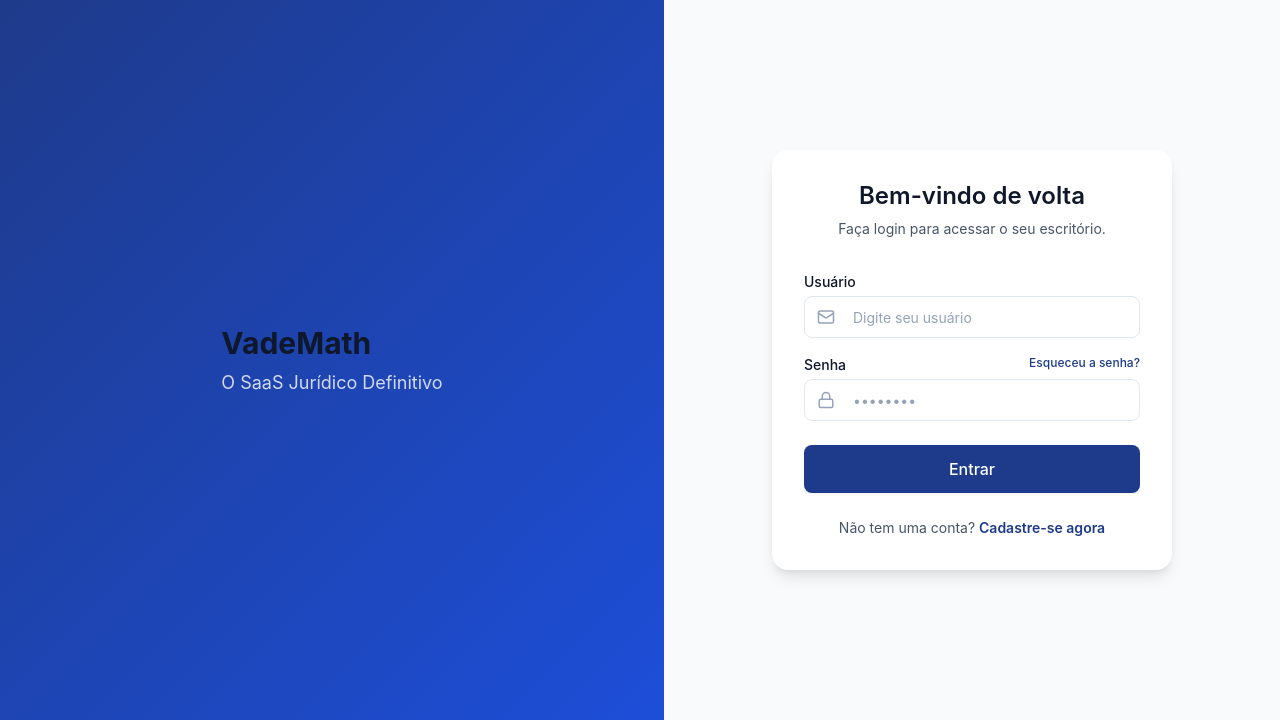
Test case: Login Component › shows validation errors if fields are empty
Click the button "Entrar": coordinates (972, 469) 804,445 -> 1140,493
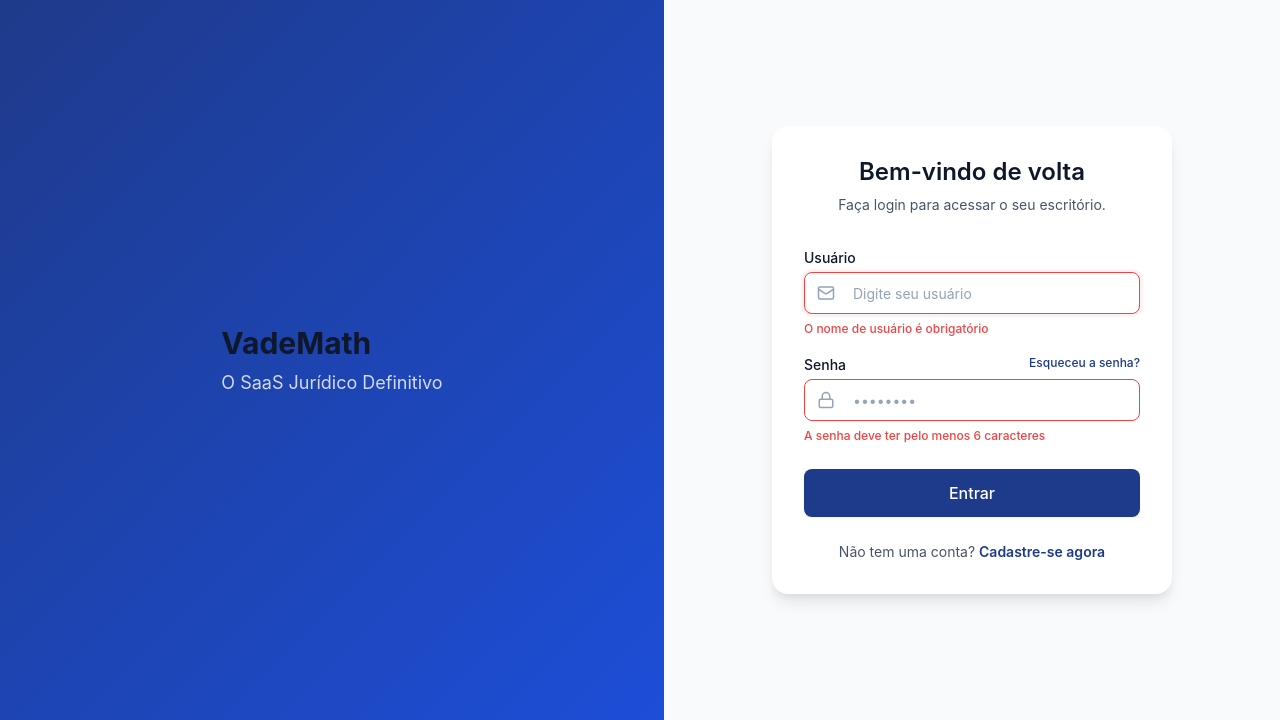
Check: the text "O nome de usuário é obrigatório" is shown, box 804,321 -> 988,336
Check: the text "A senha deve ter pelo menos 6 caracteres" is shown, box 804,428 -> 1045,443
